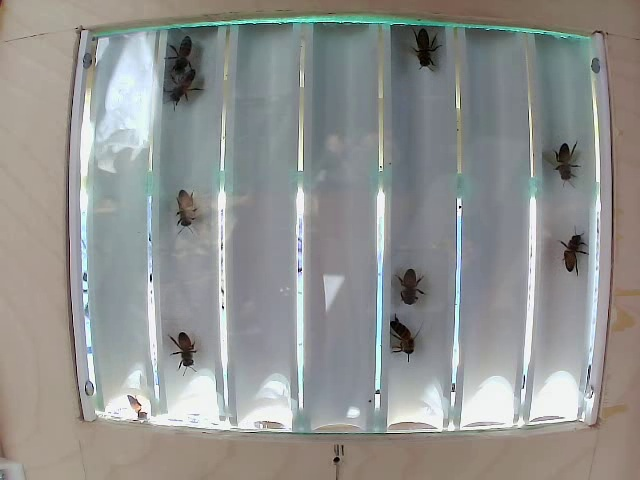bee: (402, 24, 444, 81), (162, 64, 202, 116), (163, 178, 204, 228), (378, 263, 430, 300), (561, 219, 598, 270), (388, 317, 425, 367), (542, 132, 577, 175), (158, 333, 195, 370), (165, 40, 194, 72)
